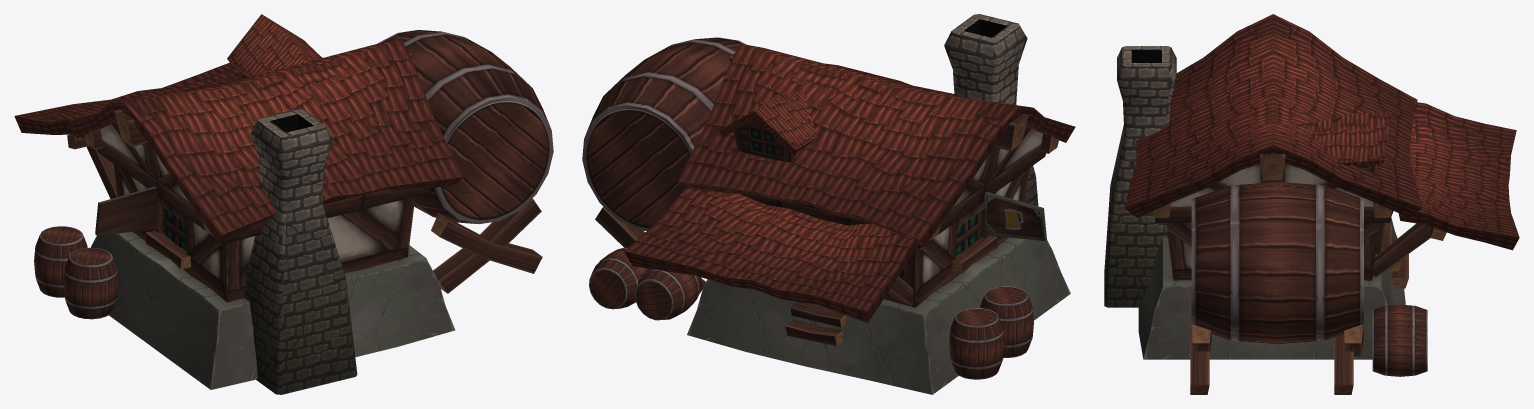
Rendered from HomeBeer.FBX.
3 views of the same model, side by side, from view 1: azimuth 30°, elevation 25°; view 2: azimuth 150°, elevation 25°; view 3: azimuth 270°, elevation 25° (orthographic). The views are drawn at different scales.
Visible parts, largest first — view 1: Box038, Box043, Box041, Box035, Box036, Box037, Box040, Box065, Box039; view 2: Box038, Box043, Box035, Box036, Box041, Box037, Box040, Box065, Box039; view 3: Box038, Box043, Box041, Box035, Box037, Box036, Box040.
Boxes of the visible parts, bbox=[...] form: Box038: bbox=[14, 39, 463, 240]; Box043: bbox=[34, 30, 553, 319]; Box041: bbox=[244, 109, 357, 394]; Box035: bbox=[90, 232, 454, 389]; Box036: bbox=[97, 122, 431, 302]; Box037: bbox=[67, 49, 542, 293]; Box040: bbox=[227, 14, 322, 78]; Box065: bbox=[95, 186, 157, 235]; Box039: bbox=[162, 206, 186, 250]; Box038: bbox=[624, 43, 1075, 322]; Box043: bbox=[582, 37, 1033, 379]; Box035: bbox=[687, 237, 1070, 394]; Box036: bbox=[740, 127, 1045, 307]; Box041: bbox=[944, 14, 1038, 206]; Box037: bbox=[595, 53, 1058, 345]; Box040: bbox=[719, 87, 816, 162]; Box065: bbox=[984, 192, 1046, 240]; Box039: bbox=[746, 123, 980, 255]; Box038: bbox=[1124, 14, 1519, 250]; Box043: bbox=[1191, 182, 1427, 376]; Box041: bbox=[1104, 46, 1176, 307]; Box035: bbox=[1138, 218, 1405, 359]; Box037: bbox=[1152, 154, 1446, 394]; Box036: bbox=[1154, 163, 1392, 280]; Box040: bbox=[1300, 112, 1391, 172].
Size of the model in its own units: 3.14 by 1.7 by 2.77.
